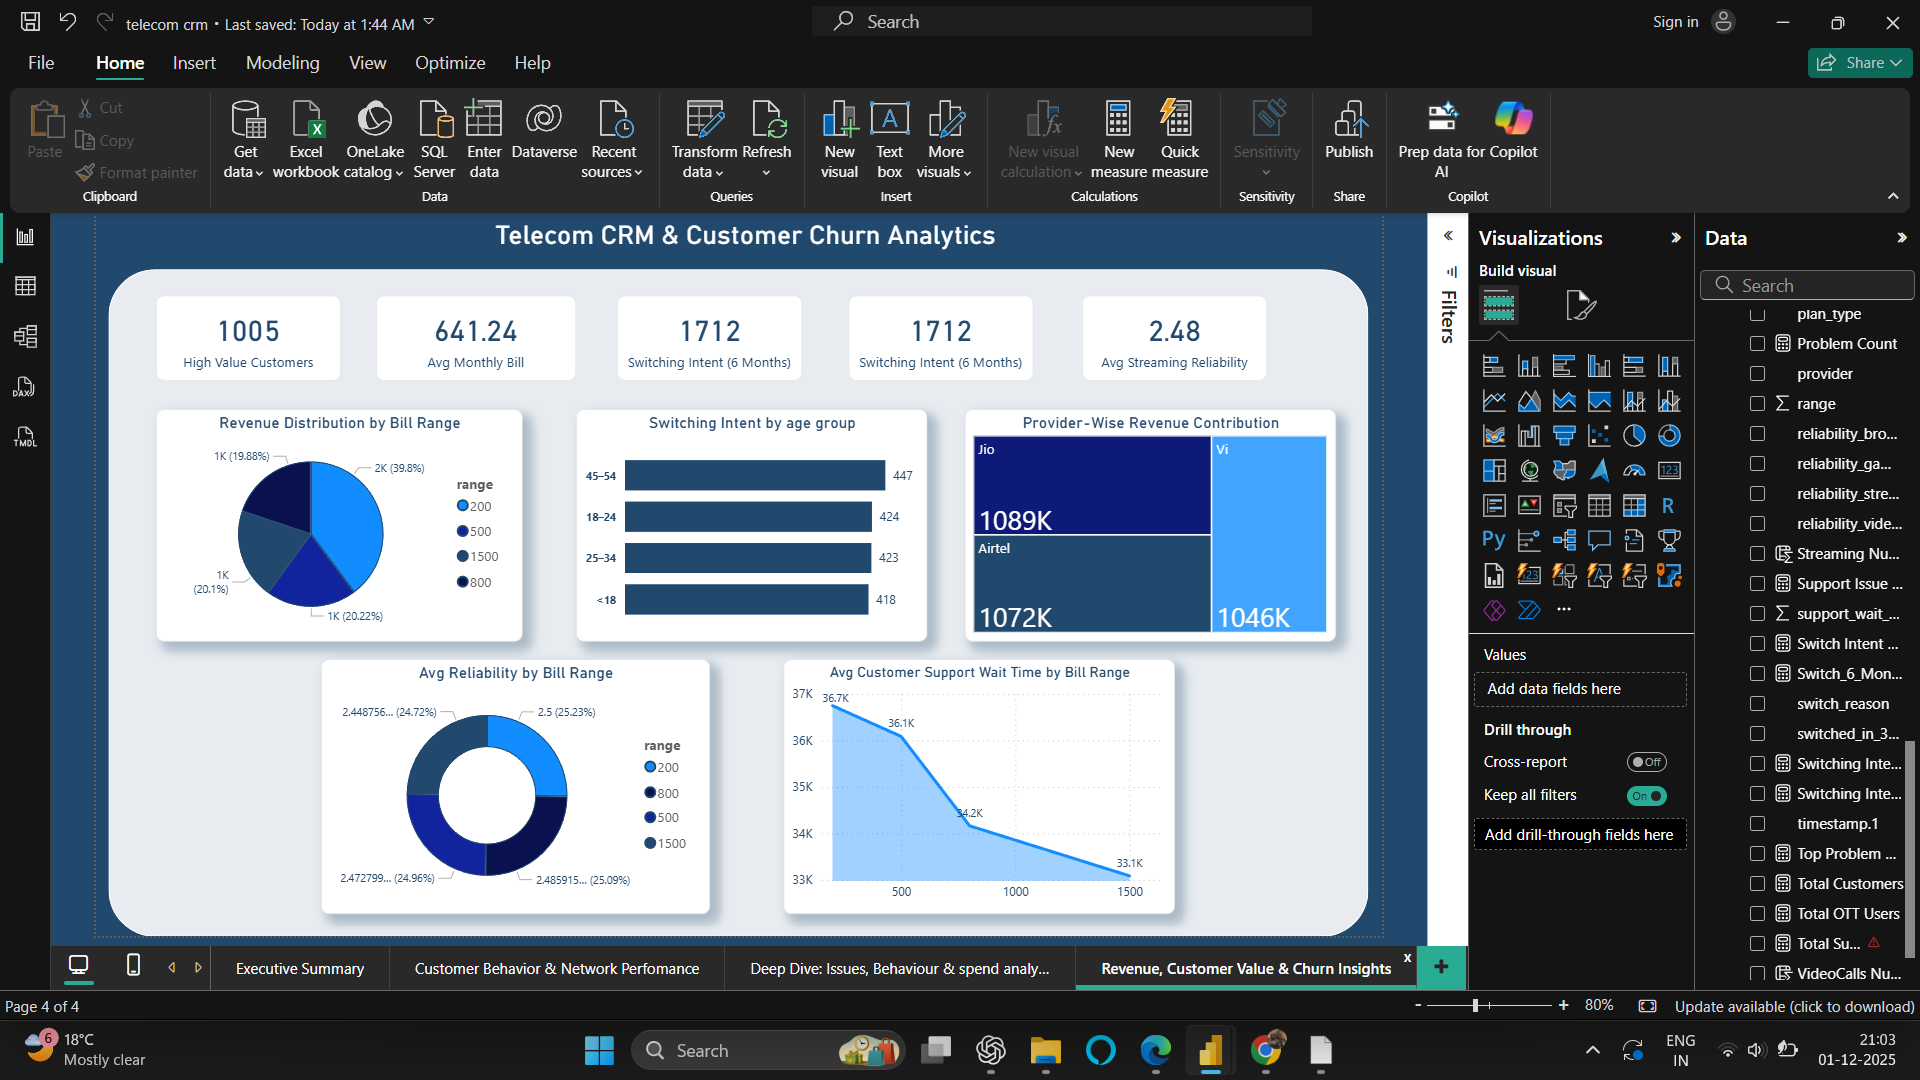

This screenshot's page, from the dashboard's own definition file:
{"tool":"powerbi","page":{"name":"Revenue, Customer Value & Churn Insights","canvas":[1280,720],"ordinal":3},"visuals":[{"type":"shape","box":[0,56,1253.9,664.3],"z":0},{"type":"textbox","title":"Telecom CRM & Customer Churn Analytics","box":[370.4,0,551.5,41.7],"z":1000},{"type":"card","fields":{"Values":["telecom_synthetic_5000.High Value Customers"]},"box":[59.7,82.1,155.5,84.6],"z":2000},{"type":"card","fields":{"Values":["telecom_synthetic_5000.Avg Monthly Bill"]},"box":[248.8,82.1,175.4,84.6],"z":3000},{"type":"card","fields":{"Values":["telecom_synthetic_5000.Switching Intent (6 Months)"]},"box":[455.3,82.1,166.7,84.6],"z":4000},{"type":"card","fields":{"Values":["telecom_synthetic_5000.Switching Intent (6 Months)"]},"box":[643.1,82.1,153,84.6],"z":5000},{"type":"card","fields":{"Values":["telecom_synthetic_5000.Avg Streaming Reliability"]},"box":[1049.9,82.1,161.7,84.6],"z":6000},{"type":"donutChart","title":"Revenue Distribution by Bill Range","fields":{"Category":["telecom_synthetic_5000.range"],"Y":["telecom_synthetic_5000.Total Customers"]},"box":[59.7,195.3,364.5,231.4],"z":7000},{"type":"barChart","title":"Switching Intent by age group","fields":{"Category":["telecom_synthetic_5000.age_group"],"Y":["telecom_synthetic_5000.Switching Intent (6 Months)"]},"box":[477.7,195.3,349.6,231.4],"z":7001},{"type":"treemap","title":"Provider-Wise Revenue Contribution","fields":{"Group":["telecom_synthetic_5000.provider"],"Values":["Sum(telecom_synthetic_5000.range)"]},"box":[864.6,195.3,369.5,231.4],"z":7002},{"type":"donutChart","title":"Avg Reliability by Bill Range","fields":{"Category":["telecom_synthetic_5000.range"],"Y":["telecom_synthetic_5000.avg reliability streaming"]},"box":[223.9,444.1,386.9,253.8],"z":7003},{"type":"areaChart","title":"Avg Customer Support Wait Time by Bill Range","fields":{"Category":["telecom_synthetic_5000.range"],"Y":["Avg(telecom_synthetic_5000.support_wait_time_seconds)"]},"box":[684.2,444.1,389.4,253.8],"z":7004},{"type":"card","fields":{"Values":["telecom_synthetic_5000.Churn Risk Score"]},"box":[827.2,82.1,184.1,84.6],"z":7005}]}

Visuals, with their boxes on the page's 1280x720 design canvas (x1, y1, x2, y2). These are canvas units, not pixel positions in the 1920x1080 screenshot, which may show the page scaled, cropped or inside an application window:
shape: Rect(0, 56, 1254, 720)
"Telecom CRM & Customer Churn Analytics" textbox: Rect(370, 0, 922, 42)
card - telecom_synthetic_5000.High Value Customers: Rect(60, 82, 215, 167)
card - telecom_synthetic_5000.Avg Monthly Bill: Rect(249, 82, 424, 167)
card - telecom_synthetic_5000.Switching Intent (6 Months): Rect(455, 82, 622, 167)
card - telecom_synthetic_5000.Switching Intent (6 Months): Rect(643, 82, 796, 167)
card - telecom_synthetic_5000.Avg Streaming Reliability: Rect(1050, 82, 1212, 167)
"Revenue Distribution by Bill Range" donutChart: Rect(60, 195, 424, 427)
"Switching Intent by age group" barChart: Rect(478, 195, 827, 427)
"Provider-Wise Revenue Contribution" treemap: Rect(865, 195, 1234, 427)
"Avg Reliability by Bill Range" donutChart: Rect(224, 444, 611, 698)
"Avg Customer Support Wait Time by Bill Range" areaChart: Rect(684, 444, 1074, 698)
card - telecom_synthetic_5000.Churn Risk Score: Rect(827, 82, 1011, 167)
